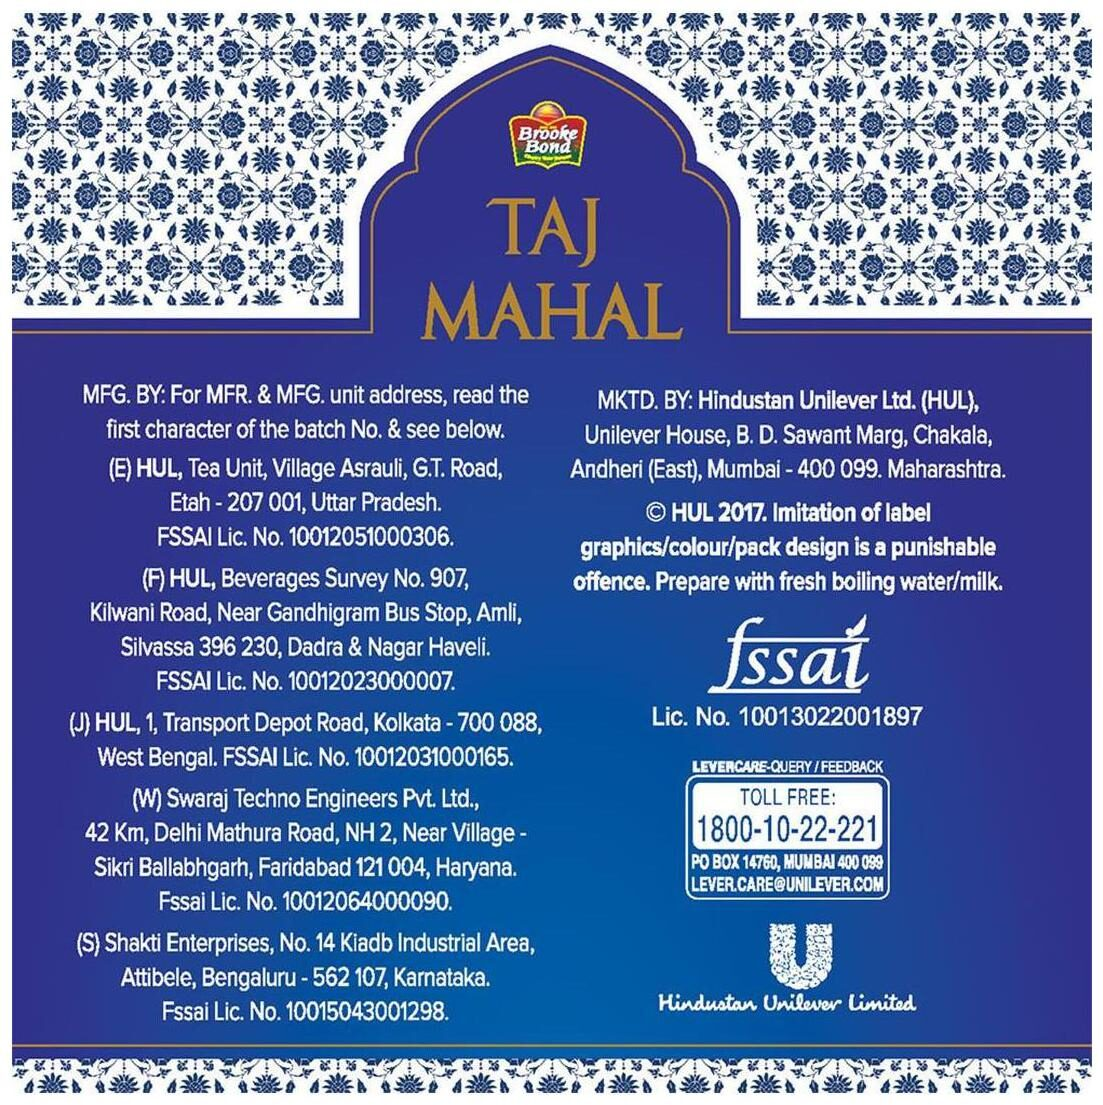fssai: (705, 613, 871, 695)
